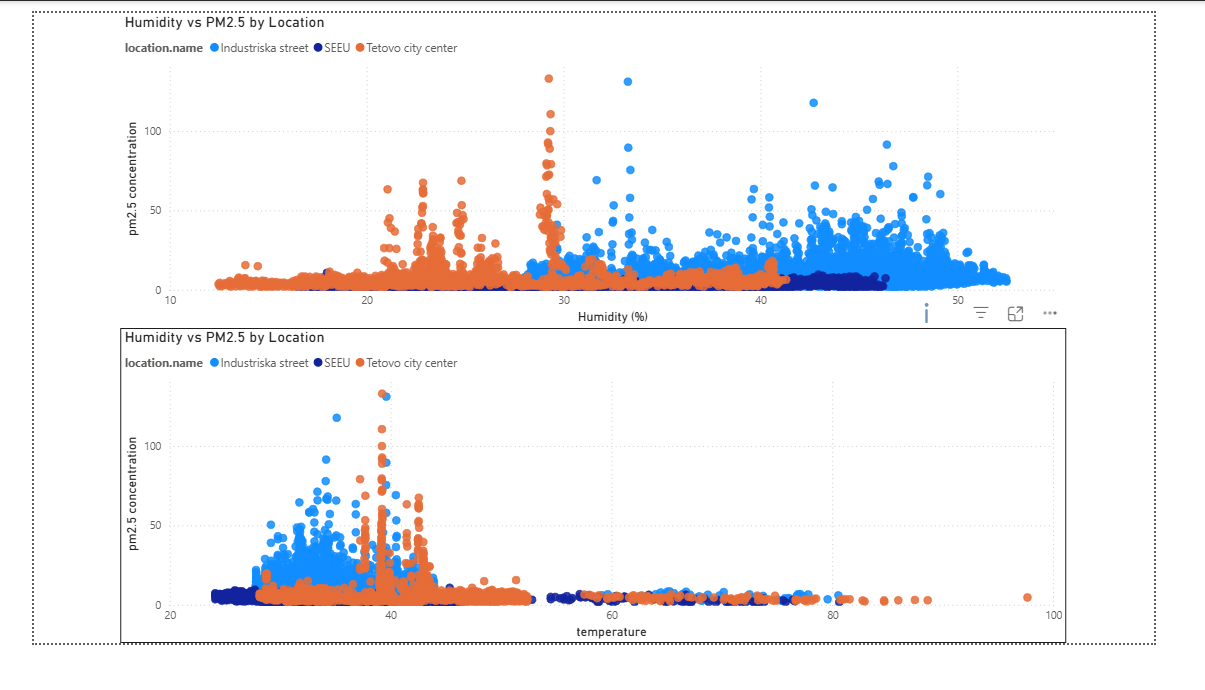

The dashboard page shown, as its layout file describes it:
{"tool":"powerbi","page":{"name":"Environmental Correlation","canvas":[1280,720],"ordinal":4},"visuals":[{"type":"scatterChart","title":"Humidity vs PM2.5 by Location","fields":{"X":["MongoSensorReadings.measurements.humidity"],"Y":["MongoSensorReadings.measurements.pm25"],"Series":["MongoSensorReadings.location.name"]},"box":[98.6,0,1081.4,360],"z":0},{"type":"scatterChart","title":"Humidity vs PM2.5 by Location","fields":{"Y":["MongoSensorReadings.measurements.pm25"],"Series":["MongoSensorReadings.location.name"],"X":["Sum(MongoSensorReadings.measurements.temperature)"]},"box":[98.6,360,1081.4,360],"z":1}]}

Visuals, with their boxes in screenshot pixels (x1, y1, x2, y2), scaled from the page's 1280x720 canvas onto the 1205x690 screenshot:
"Humidity vs PM2.5 by Location" scatterChart: select_region(93, 0, 1111, 345)
"Humidity vs PM2.5 by Location" scatterChart: select_region(93, 345, 1111, 689)
